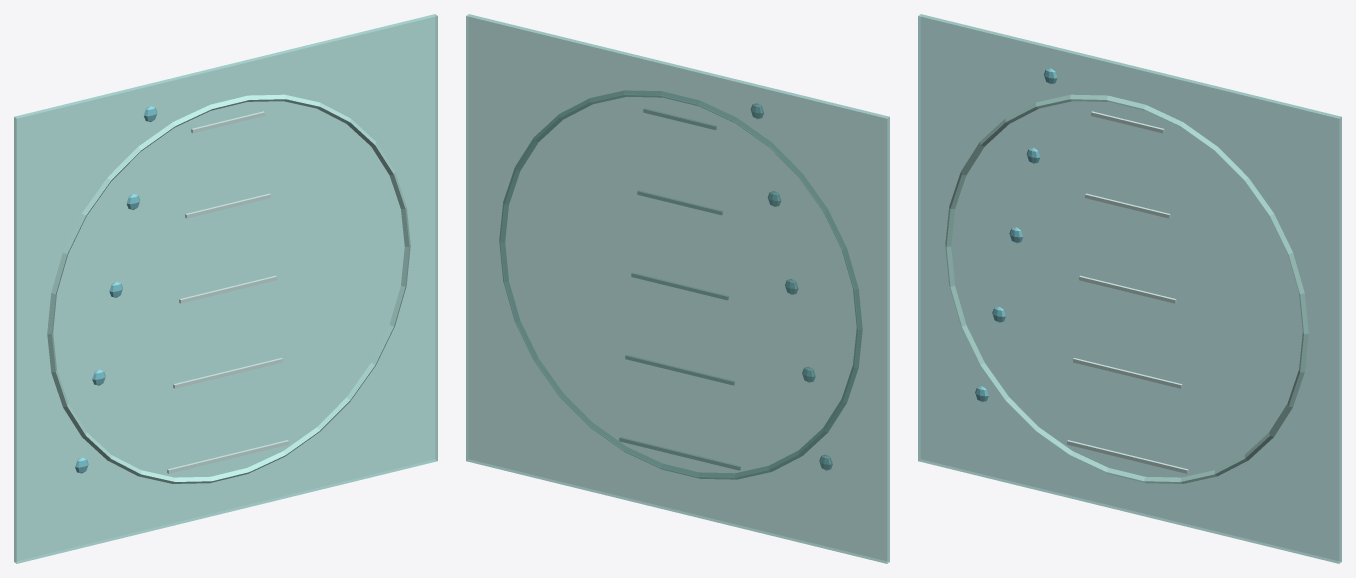
Rendered from velo_portal.glb.
3 renders of one model, left to right at view 1: azimuth 30°, elevation 25°; view 2: azimuth 150°, elevation 25°; view 3: azimuth 330°, elevation 25°, orthographic.
Visible parts, largest first — view 1: velo_portal; view 2: velo_portal; view 3: velo_portal.
Boxes of the visible parts, x1,y1,x2,y2 form: velo_portal: (14, 14, 437, 563); velo_portal: (466, 14, 889, 563); velo_portal: (918, 14, 1341, 563).
Bounding box in the file's own units: 4.9 × 4.95 × 0.1225.
